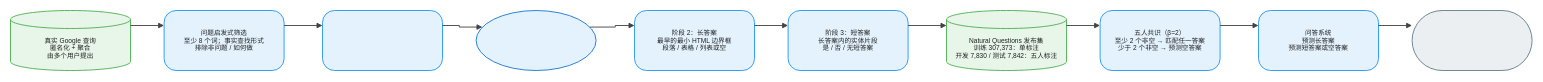
This 1543x82 diagram has some shape labels left out. The shapes that lost their labels are listed below. From the top down, each one's centre as x and y in pixels, then its label:
At point 382,40: "执行 Google 搜索 Wikipedia 位于前 5 才保留 查询与页面配对".
At point 535,40: "阶段 1：问题检查 良好事实问题或无效问题 看页面前先判断".
At point 1471,40: "长 / 短答案分别报告 精确率 / 召回率 / F1 作答与拒答质量".
